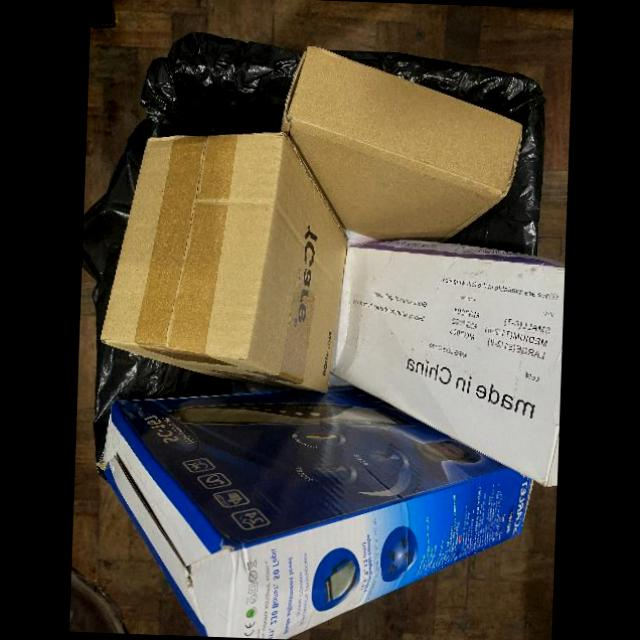carton: (98, 382, 533, 639), (100, 131, 349, 392), (329, 239, 565, 487), (281, 44, 525, 241)
